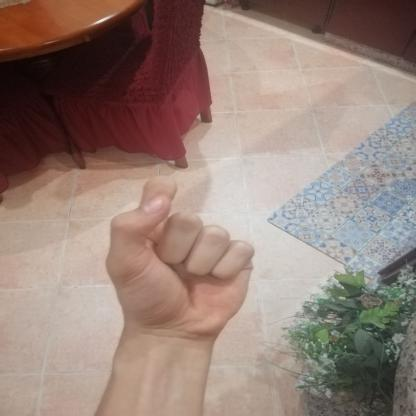FAA: (92, 163, 272, 354)
